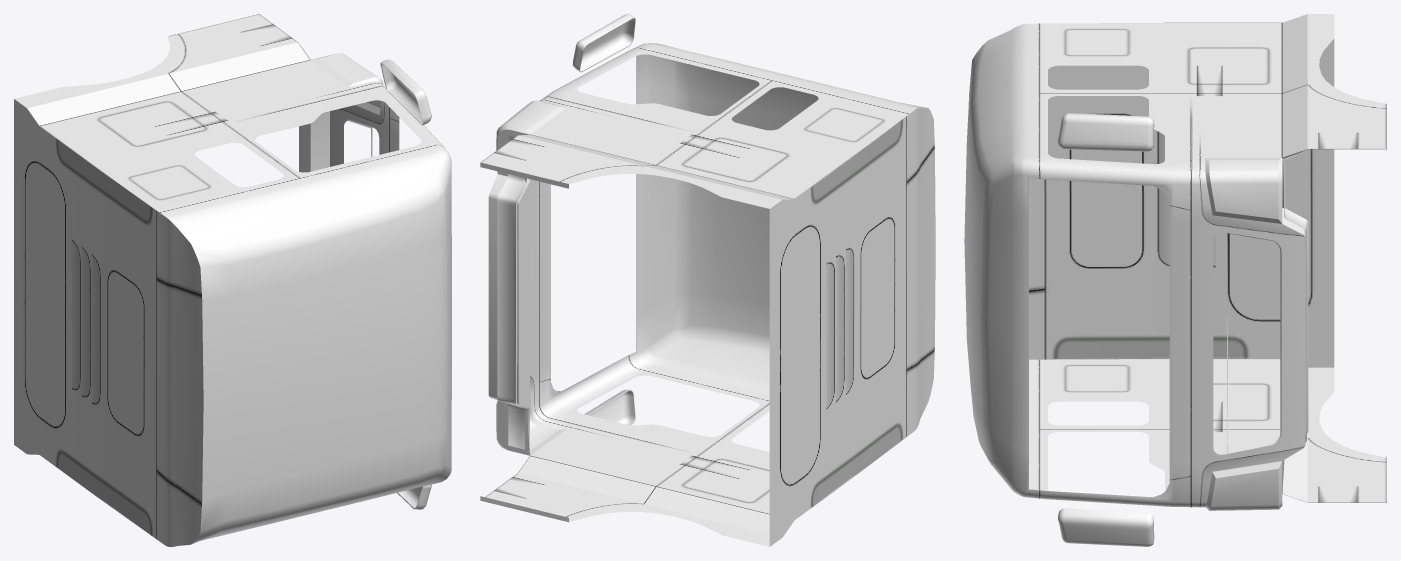
The model's file is cab.obj.
3 renders of one model, left to right at view 1: azimuth 30°, elevation 25°; view 2: azimuth 150°, elevation 25°; view 3: azimuth 270°, elevation 25°, orthographic. The views are drawn at different scales.
Parts seen in each view (by area): view 1: Cab; view 2: Cab; view 3: Cab.
Boxes of the visible parts, box(x1,y1,x2,y2) form: Cab: box(14, 14, 451, 546); Cab: box(480, 14, 935, 546); Cab: box(964, 14, 1386, 546).
Size of the model in its own units: 2.28 by 2.95 by 2.64.
Materials: 1 (1 with a texture image).
